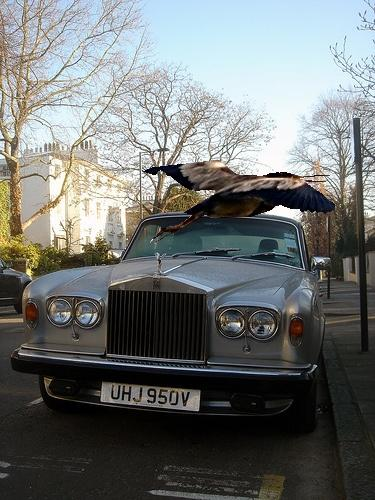tampered: (144, 161, 335, 244)
